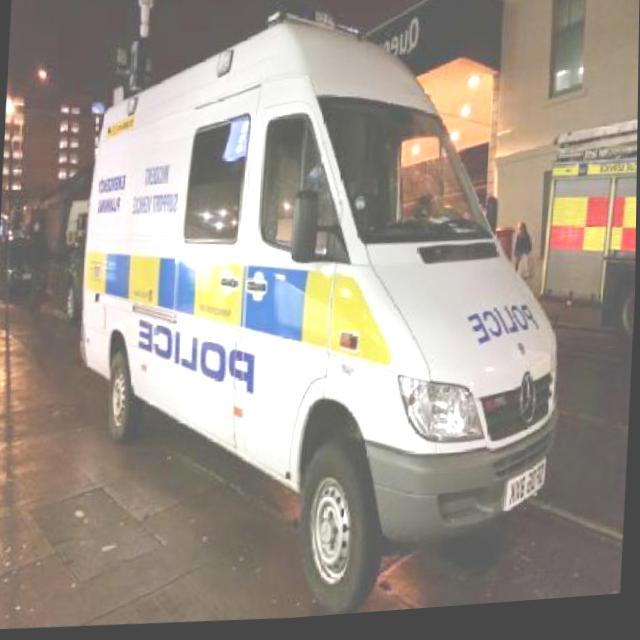emergency: (63, 0, 581, 636)
